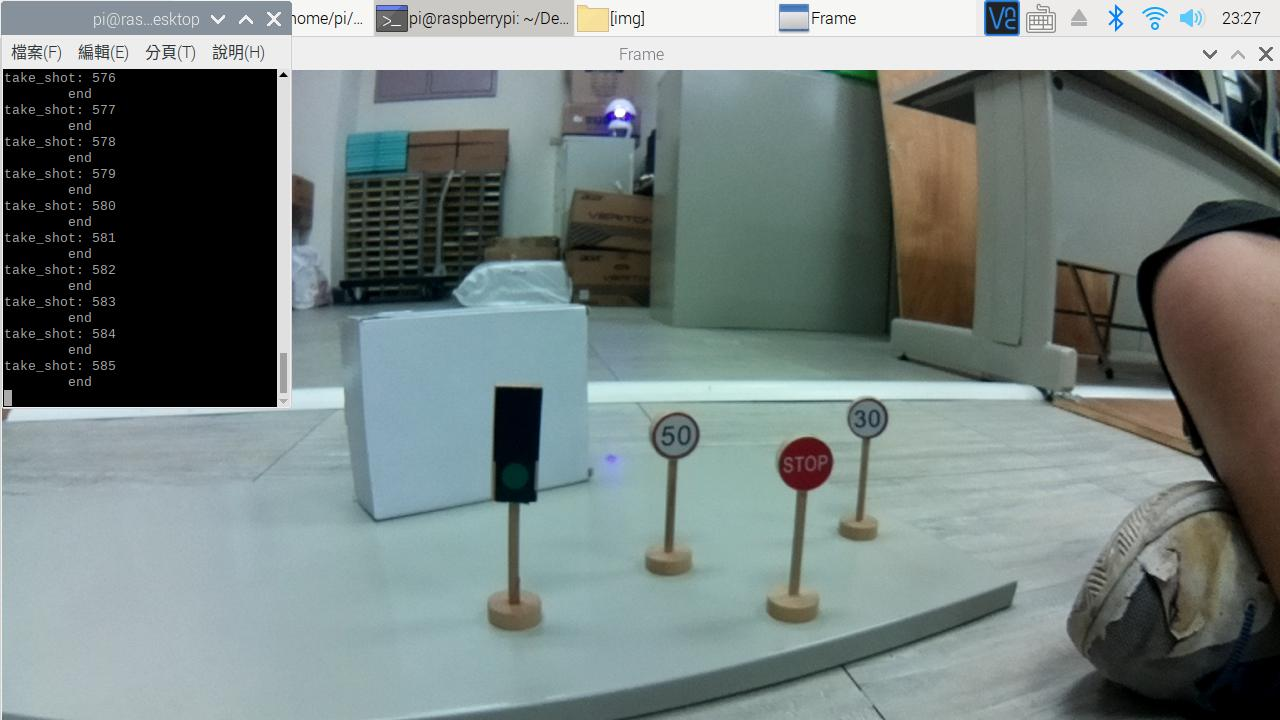Green: (481, 372, 555, 518)
Speed30: (846, 399, 896, 443)
Speed50: (643, 399, 707, 481)
Stop: (764, 427, 835, 504)
